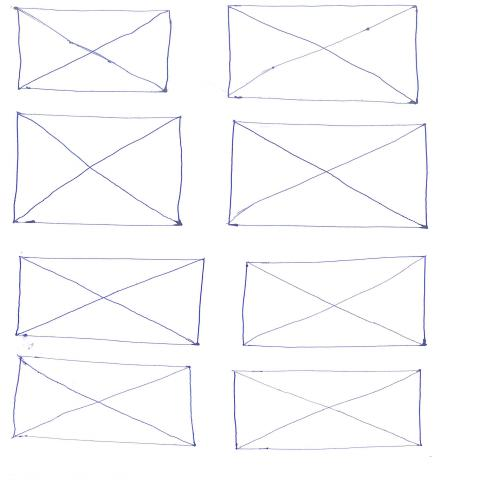Image: (227, 122, 433, 230), (11, 112, 186, 229), (225, 4, 422, 105), (239, 255, 430, 350), (15, 256, 209, 348), (11, 356, 201, 449), (233, 369, 425, 452), (13, 6, 175, 96)
